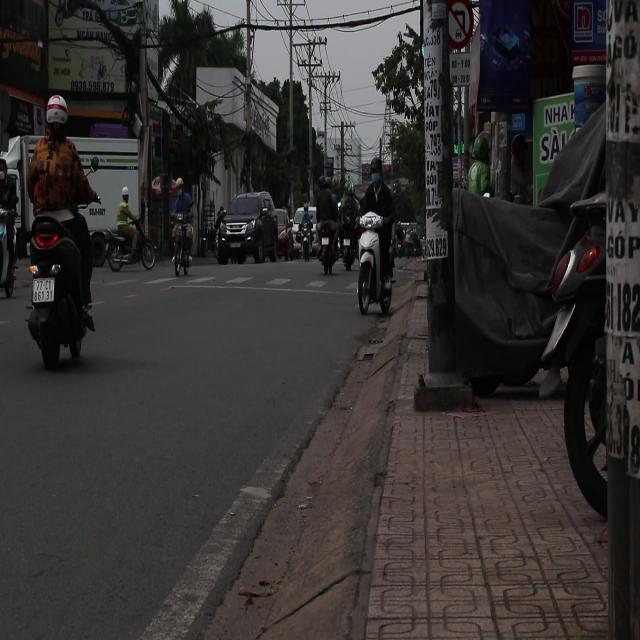car: (216, 193, 282, 266)
motorbike: (25, 218, 91, 368), (99, 200, 155, 285), (354, 216, 398, 316), (168, 187, 195, 289), (316, 197, 337, 286), (290, 206, 317, 273), (293, 208, 318, 263)
